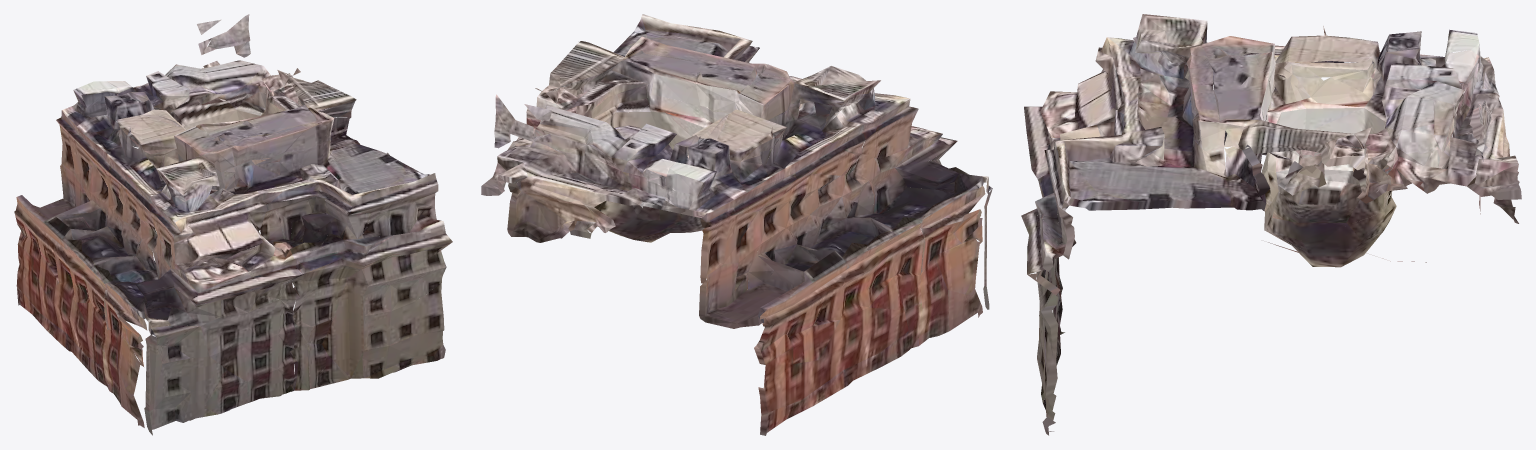
3 views of the same model, side by side, from view 1: azimuth 30°, elevation 25°; view 2: azimuth 150°, elevation 25°; view 3: azimuth 270°, elevation 25° (orthographic). The views are drawn at different scales.
Parts seen in each view (by area): view 1: Mesh_0; view 2: Mesh_0; view 3: Mesh_0.
Part boxes in pixels (x1,y1,x2,y2): Mesh_0: [14, 14, 452, 435]; Mesh_0: [481, 14, 992, 435]; Mesh_0: [1021, 14, 1521, 435].
Bounding box in the file's own units: 30.07 × 23.12 × 32.89.
Materials: 2 (2 with a texture image).
